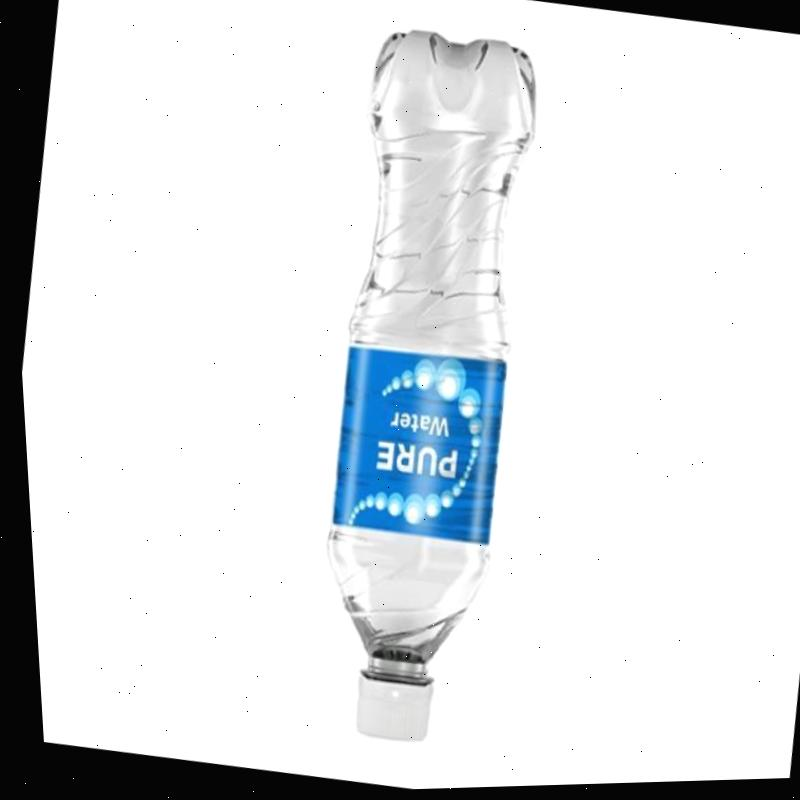botella: (264, 20, 584, 763)
